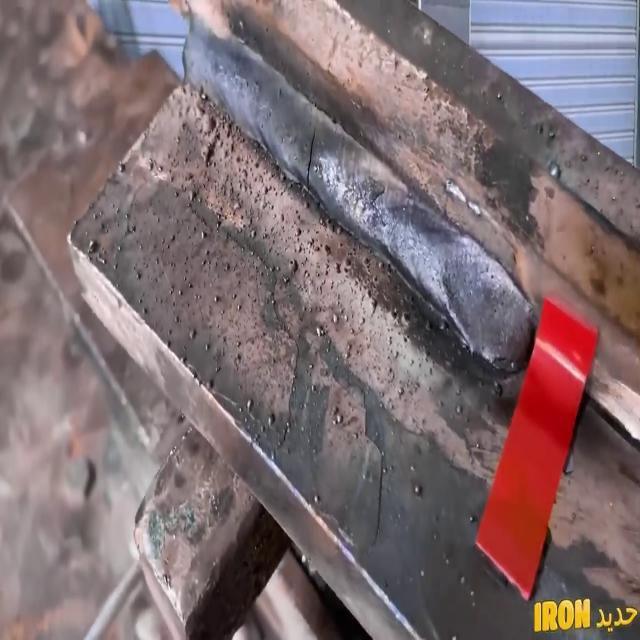Bad Weld: (175, 11, 535, 374)
Defect: (302, 119, 320, 196), (366, 183, 390, 225)
